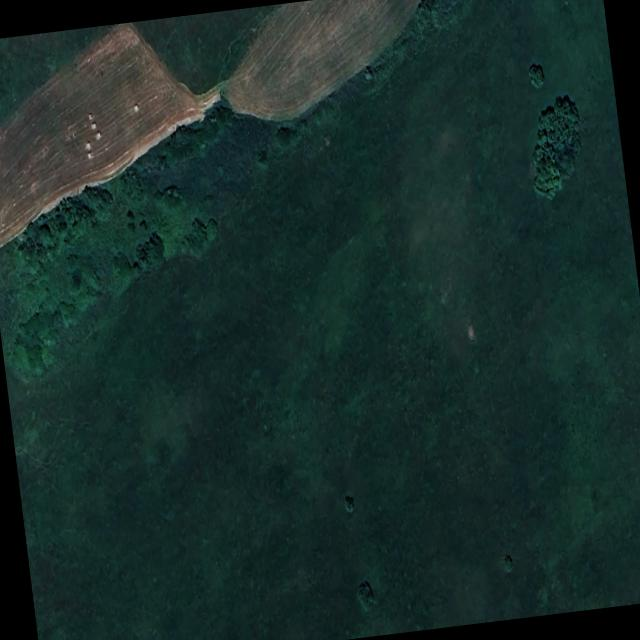bare-soil: (0, 21, 215, 248), (217, 0, 409, 124)
grass: (3, 0, 640, 640), (165, 4, 276, 86), (0, 27, 89, 125), (133, 17, 167, 49)
tree: (4, 176, 188, 376), (526, 59, 575, 198), (357, 581, 378, 604), (343, 497, 351, 511), (506, 558, 512, 571)
